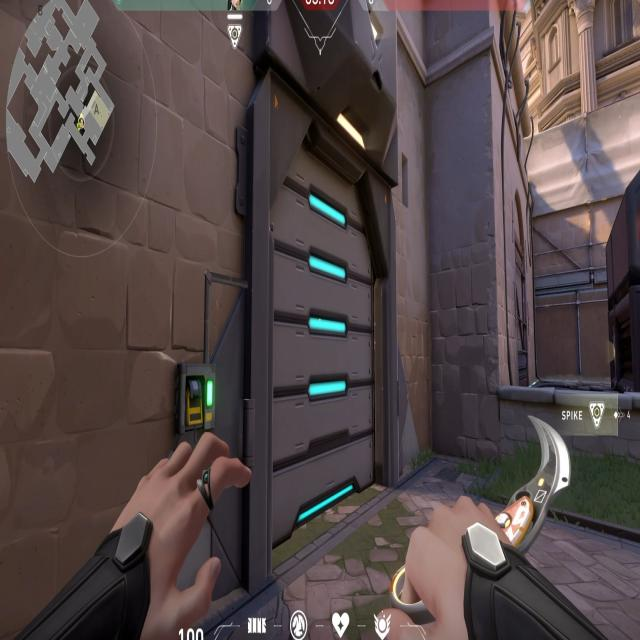A_Door: (244, 42, 400, 585)
A_Heaven_Wall: (522, 92, 640, 294)
